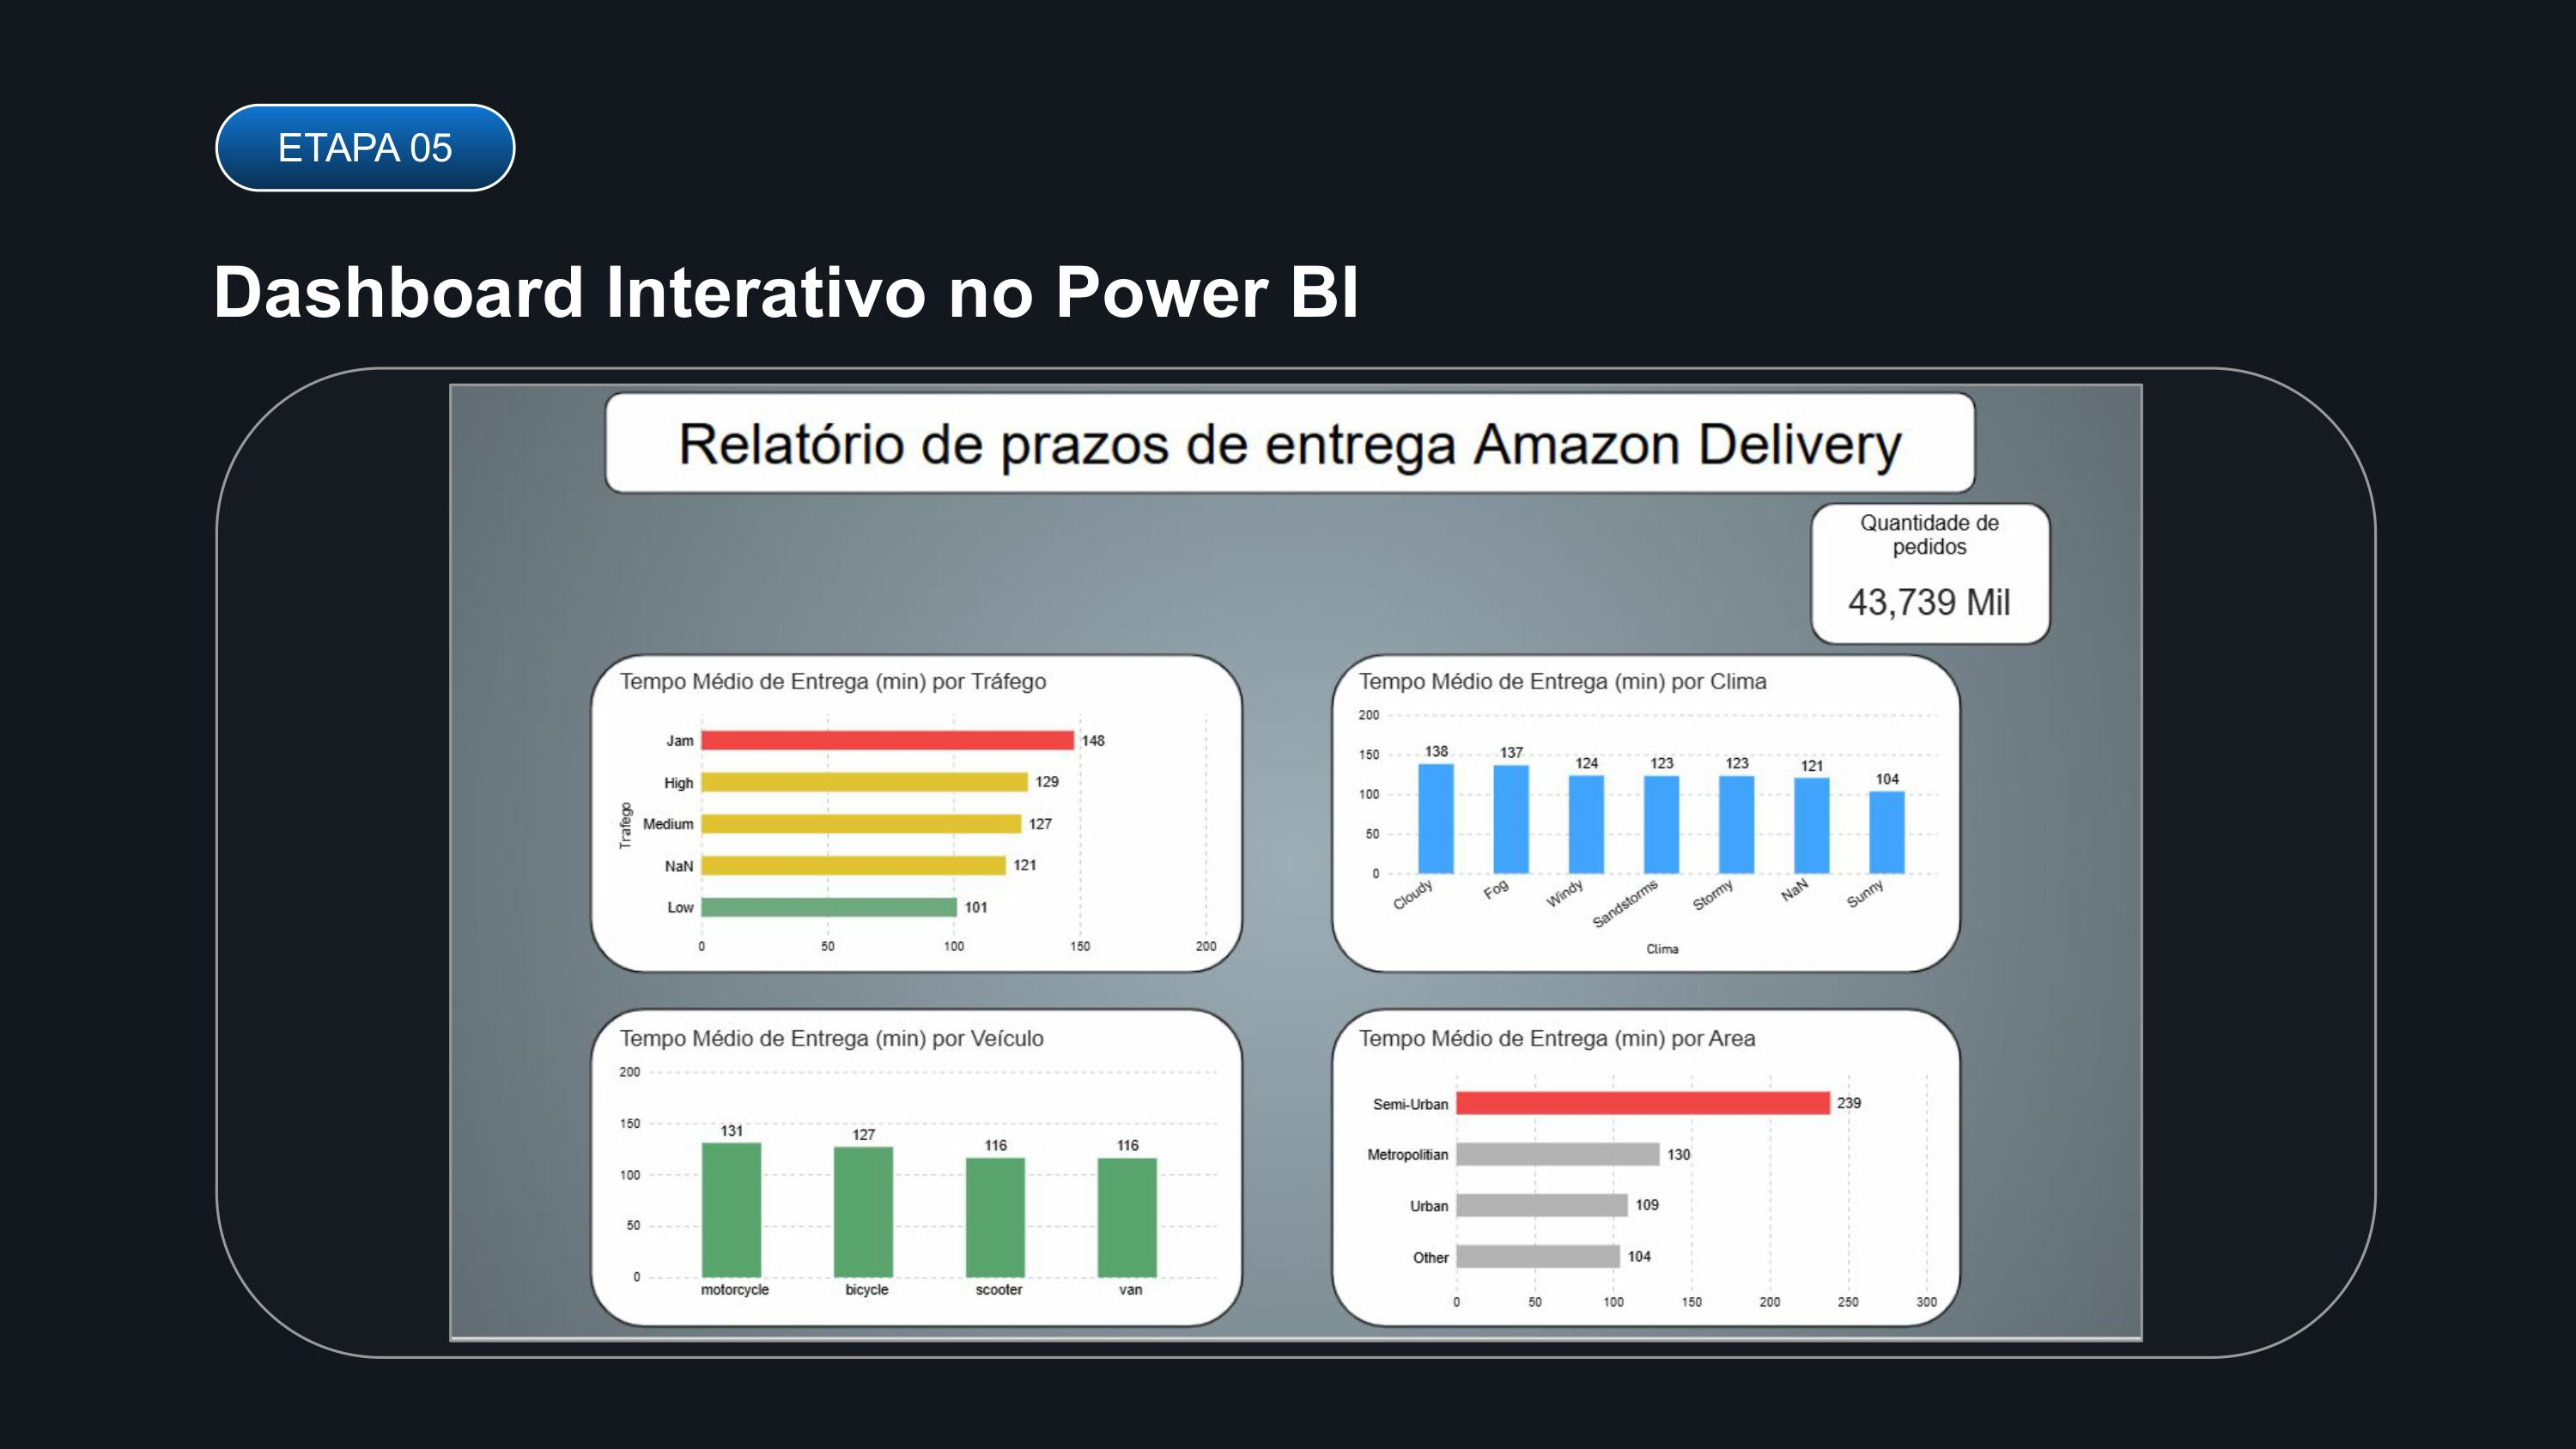

This screenshot's page, from the dashboard's own definition file:
{"tool":"powerbi","page":{"name":"Dashboard","canvas":[1920,1080],"ordinal":0},"visuals":[{"type":"cardVisual","title":"Quantidade de pedidos","fields":{"Data":["Count(amazon_delivery.Order_ID)"]},"box":[1555.8,142.4,245.8,139.4],"z":0},{"type":"barChart","title":"Tempo Médio de Entrega (min) por Tráfego","fields":{"Category":["amazon_delivery.Traffic"],"Y":["Avg(amazon_delivery.Delivery_Time)"]},"box":[176.9,307.3,708.9,356.7],"z":1},{"type":"columnChart","title":"Tempo Médio de Entrega (min) por Clima","fields":{"Category":["amazon_delivery.Weather"],"Y":["Avg(amazon_delivery.Delivery_Time)"]},"box":[1014.7,307.3,688,356.7],"z":2},{"type":"columnChart","title":"Tempo Médio de Entrega (min) por Veículo","fields":{"Category":["amazon_delivery.Vehicle"],"Y":["Avg(amazon_delivery.Delivery_Time)"]},"box":[176.9,711.9,708.9,341.7],"z":3},{"type":"barChart","title":"Tempo Médio de Entrega (min) por Area","fields":{"Category":["amazon_delivery.Area"],"Y":["Avg(amazon_delivery.Delivery_Time)"]},"box":[1014.7,711.9,688,355.2],"z":4}]}

Visuals, with their boxes in screenshot pixels (x1, y1, x2, y2), scaled from the page's 1920x1080 canvas onto the 2576x1449 screenshot:
"Quantidade de pedidos" cardVisual: (x1=2087, y1=191, x2=2417, y2=378)
"Tempo Médio de Entrega (min) por Tráfego" barChart: (x1=237, y1=412, x2=1188, y2=891)
"Tempo Médio de Entrega (min) por Clima" columnChart: (x1=1361, y1=412, x2=2284, y2=891)
"Tempo Médio de Entrega (min) por Veículo" columnChart: (x1=237, y1=955, x2=1188, y2=1414)
"Tempo Médio de Entrega (min) por Area" barChart: (x1=1361, y1=955, x2=2284, y2=1432)
